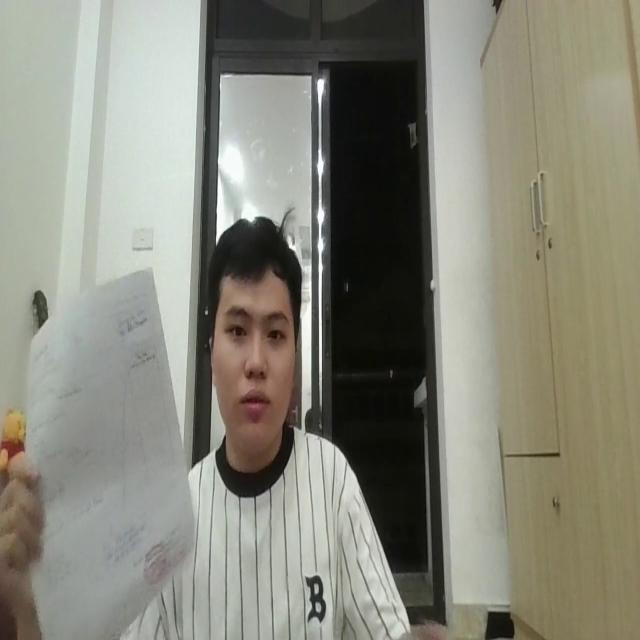book: (21, 269, 197, 631)
student: (179, 212, 417, 640)
